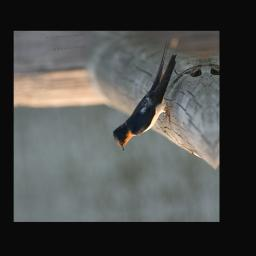Swallow: (101, 39, 187, 155)
